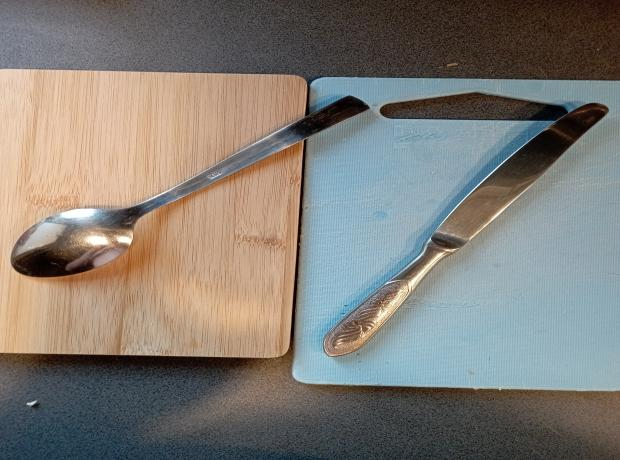metal: (323, 100, 611, 358), (11, 95, 370, 277)
